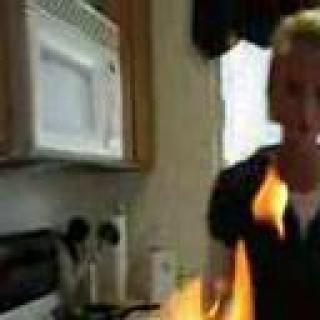fire: (149, 245, 315, 320), (249, 173, 290, 226)
